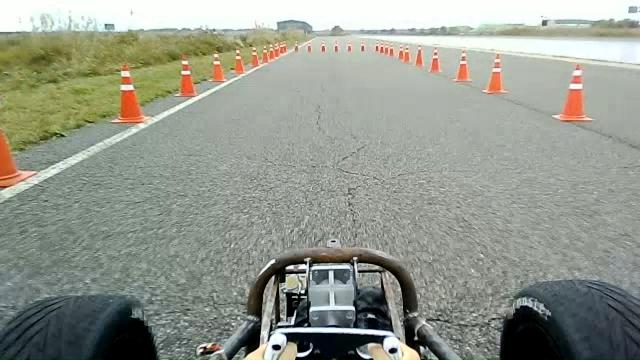red cone: (552, 63, 593, 122), (110, 63, 146, 124), (174, 54, 198, 97), (207, 51, 227, 82), (232, 48, 246, 75), (428, 47, 442, 73), (413, 45, 425, 67), (250, 45, 260, 67), (262, 46, 270, 63), (403, 46, 410, 62), (398, 44, 404, 60)
yellow cone: (482, 52, 508, 94), (453, 49, 472, 82)
